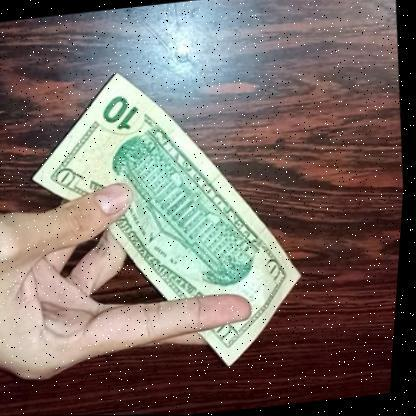ten-back: (13, 49, 326, 382)
